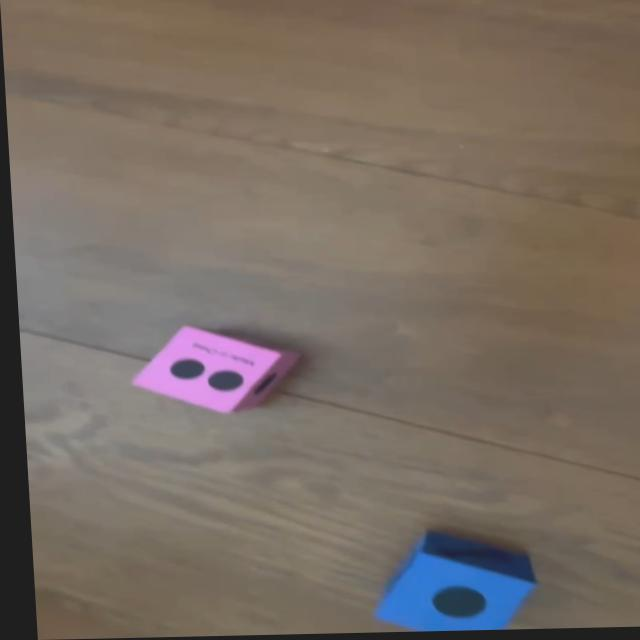cube: (363, 529, 530, 634)
